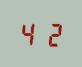four: (19, 19, 39, 46)
two: (40, 19, 60, 47)
